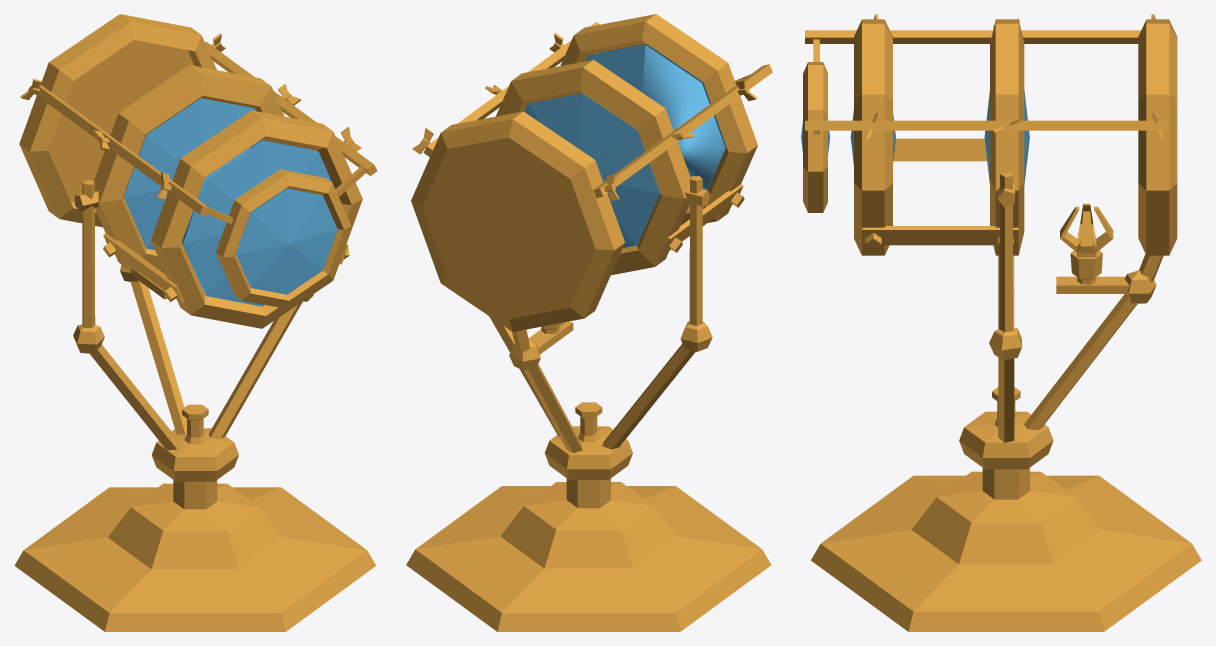
File: SM_Magnifying_Glass_Stand_Complex.fbx
3 views of the same model, side by side, from view 1: azimuth 30°, elevation 25°; view 2: azimuth 150°, elevation 25°; view 3: azimuth 270°, elevation 25° (orthographic). The views are drawn at different scales.
Visible parts, largest first — view 1: magnifying-glass-stand-complex; view 2: magnifying-glass-stand-complex; view 3: magnifying-glass-stand-complex.
Part boxes in pixels (box(x1,y1,x2,y2)): magnifying-glass-stand-complex: box(14, 14, 377, 631); magnifying-glass-stand-complex: box(406, 14, 772, 631); magnifying-glass-stand-complex: box(801, 14, 1201, 631).
Bounding box in the file's own units: 0.4004 × 0.7 × 0.4737.
